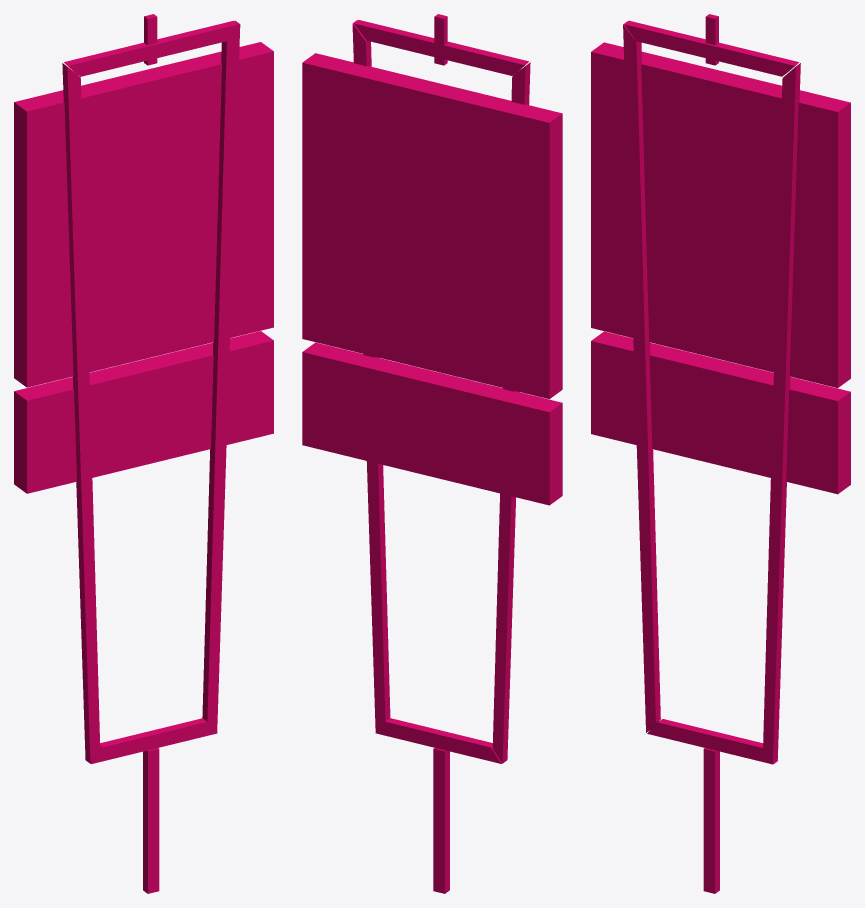
Rendered from Commercials_Bilboard_05_Lod0.fbx.
3 renders of one model, left to right at view 1: azimuth 30°, elevation 25°; view 2: azimuth 150°, elevation 25°; view 3: azimuth 330°, elevation 25°, orthographic.
Visible parts, largest first — view 1: Commercials_Bilboard_05_Lod0; view 2: Commercials_Bilboard_05_Lod0; view 3: Commercials_Bilboard_05_Lod0.
Boxes of the visible parts, x1=… form: Commercials_Bilboard_05_Lod0: x1=14, y1=14, x2=273, y2=893; Commercials_Bilboard_05_Lod0: x1=302, y1=14, x2=562, y2=893; Commercials_Bilboard_05_Lod0: x1=591, y1=14, x2=850, y2=893.
Bounding box in the file's own units: 212 × 717 × 25.62.
